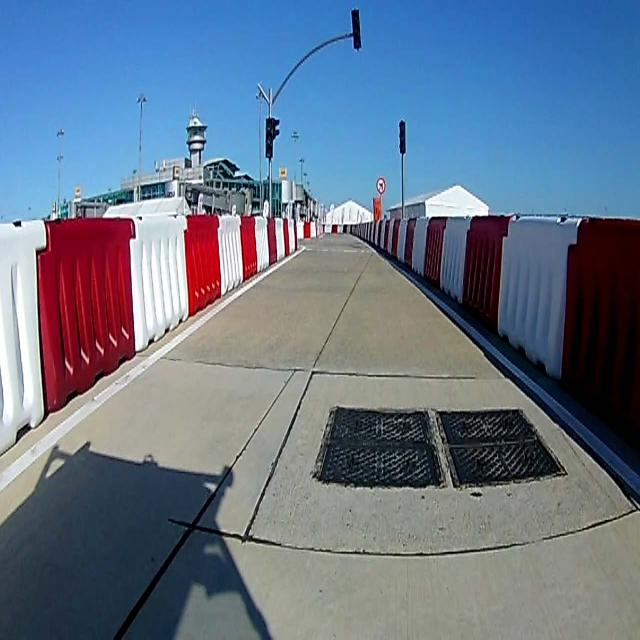soladonulmez: (376, 177, 386, 195)
